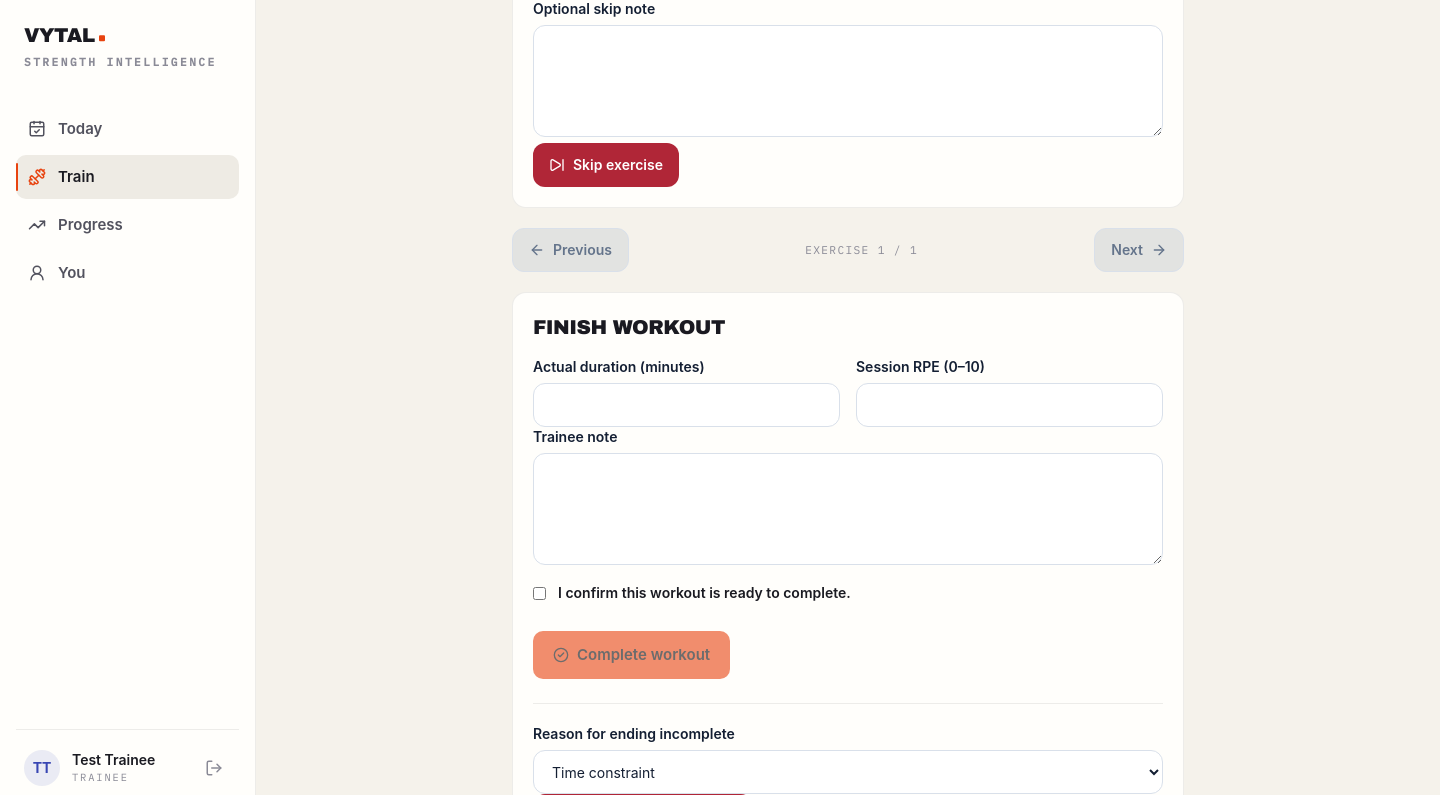
Test: requires completion fields and explicit confirmation
This screenshot has width=1440, height=795.
(page scrolled)
Expected: the button "Complete workout" is disabled, [533,631,730,679]
Type "40" into the number field labelled "Actual duration (minutes)".
click(686, 405); type("40")  # box [533,383,840,427]
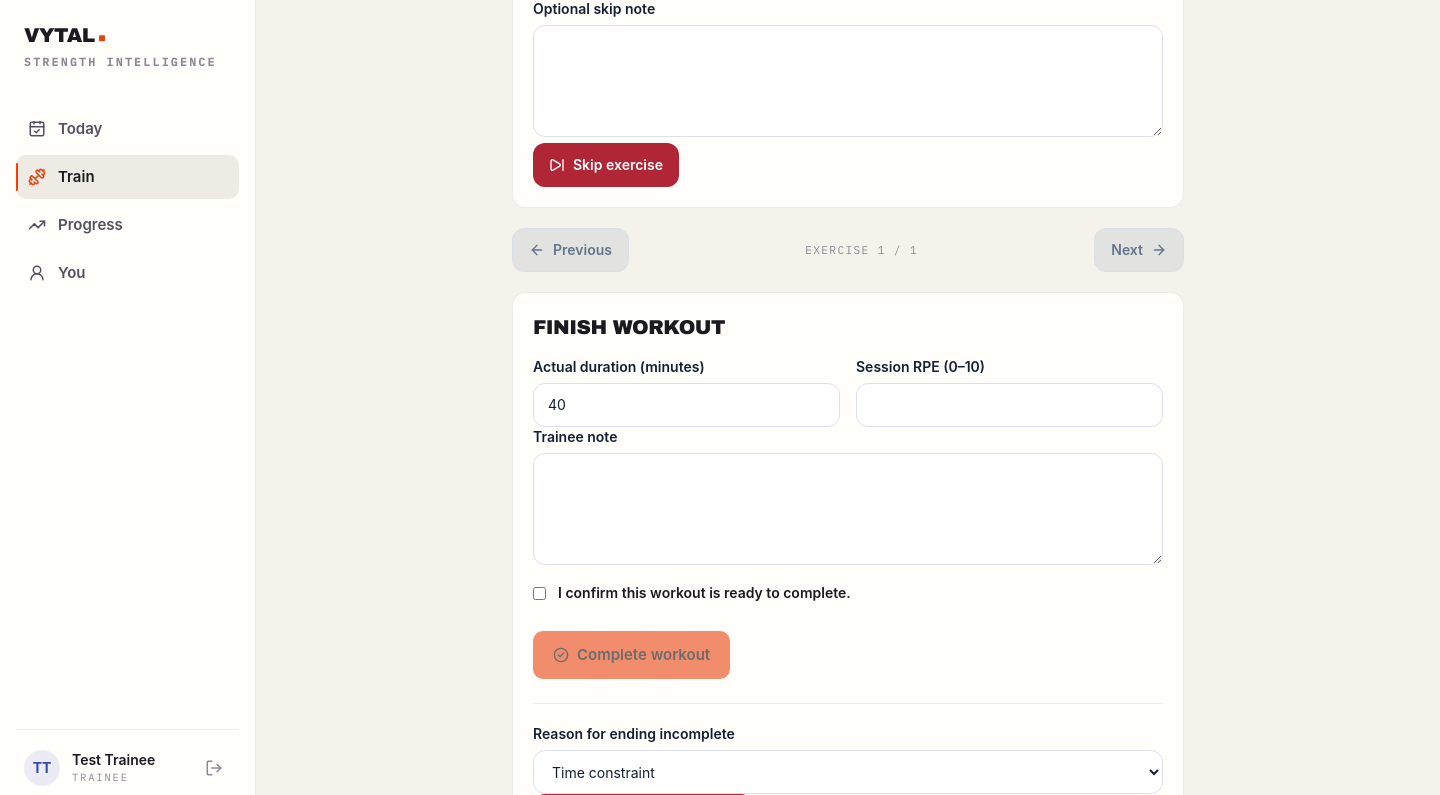
Type "7" into the number field labelled "Session RPE (0–10)".
click(1010, 405); type("7")  # box [856,383,1163,427]
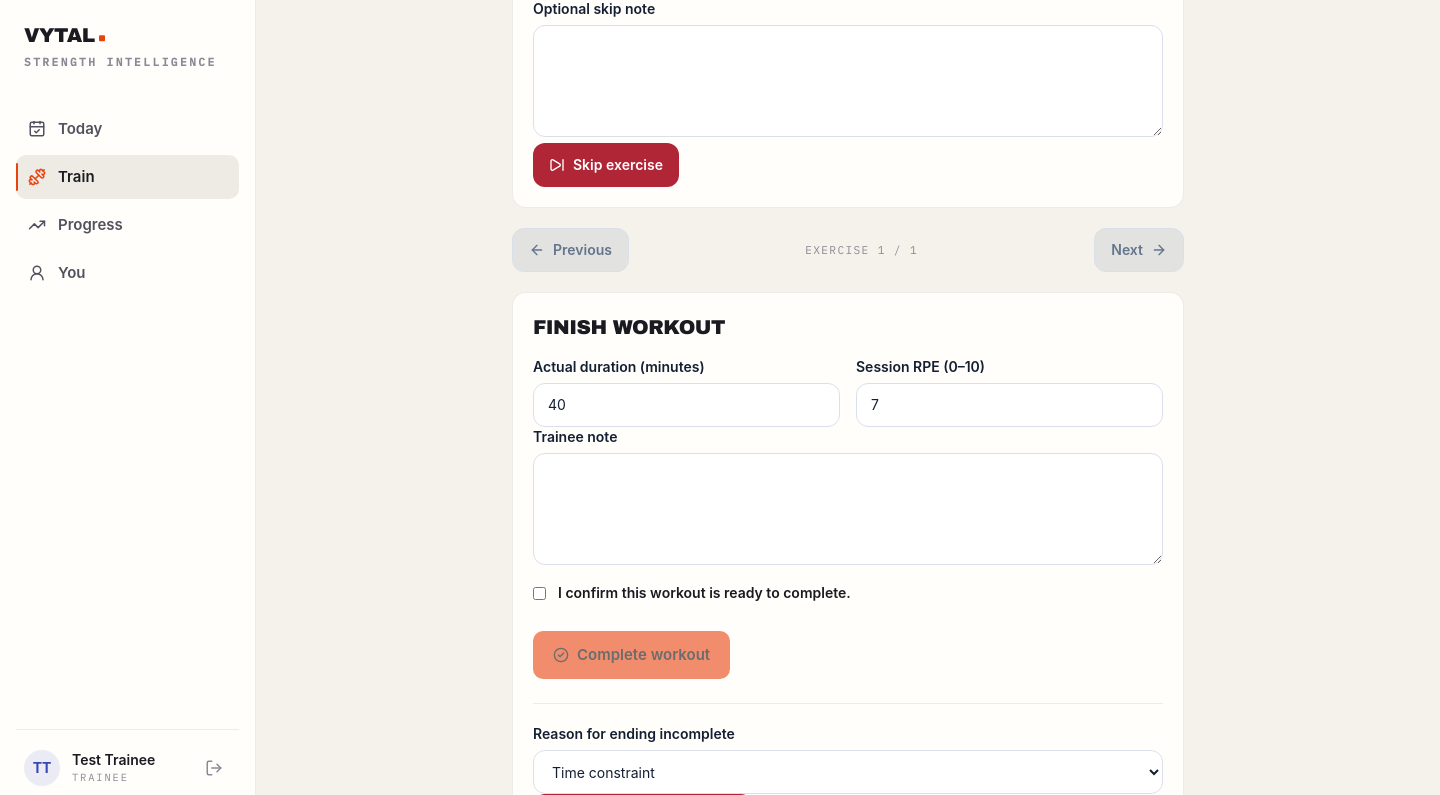
Expected: the button "Complete workout" is disabled, [533,631,730,679]
Click the checkbox labelled "I confirm this workout is ready to complete.".
click(540, 593)  # box [533,587,546,600]
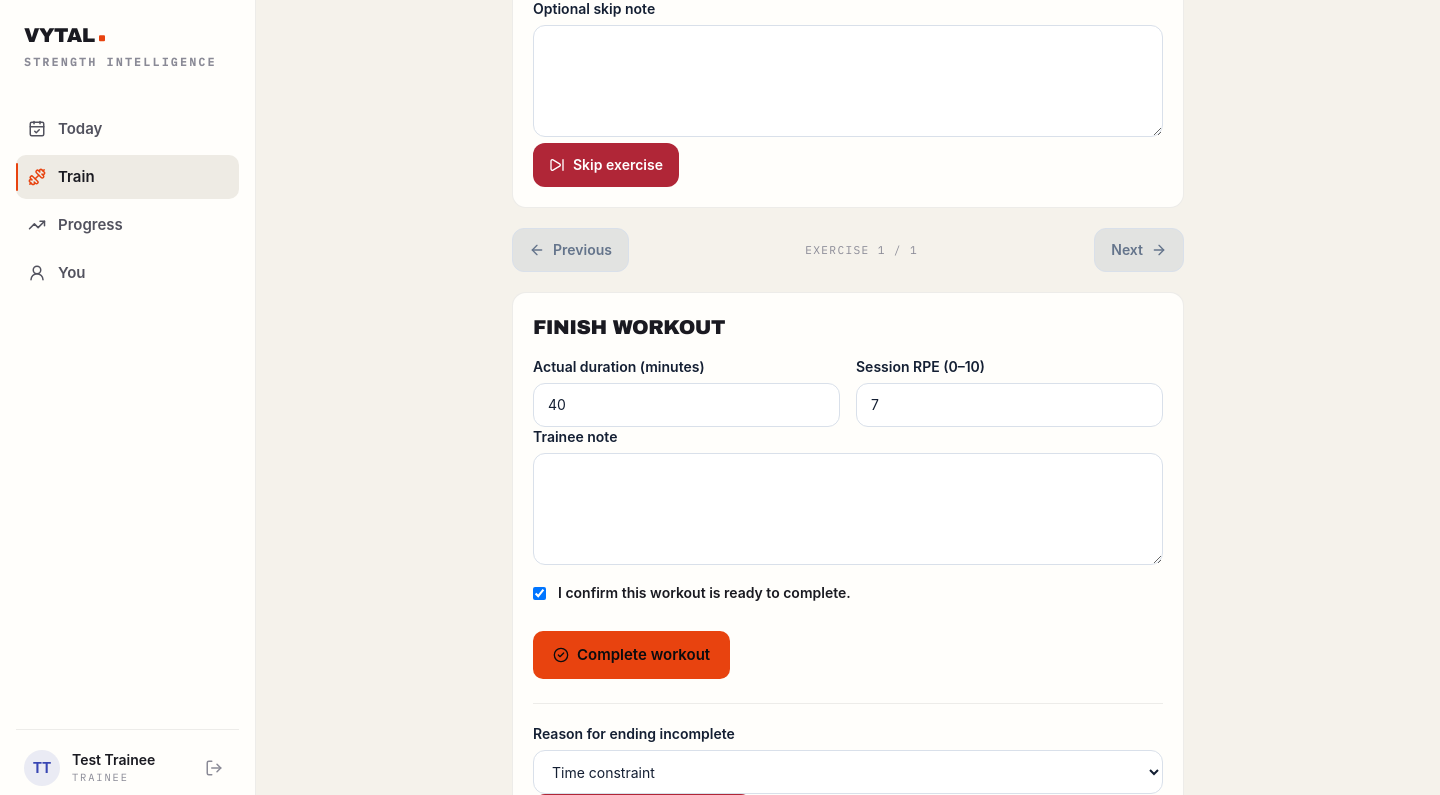
Now the button "Complete workout" is enabled, box [533,631,730,679]
